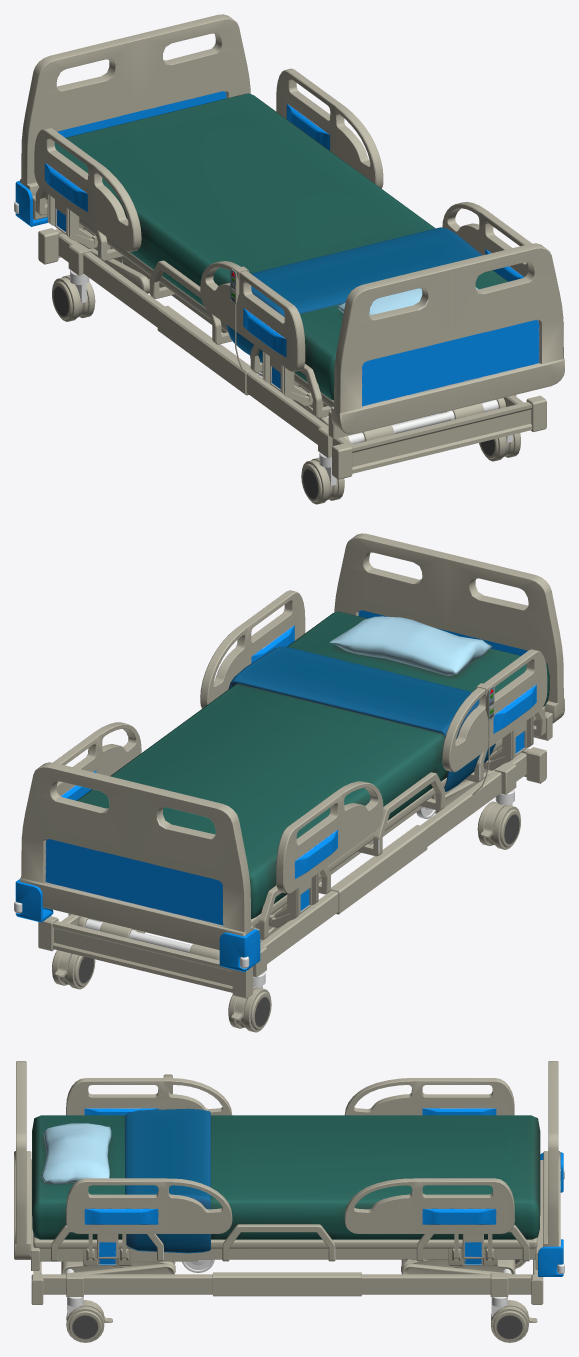
The model's file is Hospital Bed.fbx.
3 renders of one model, top to bottom at view 1: azimuth 30°, elevation 25°; view 2: azimuth 150°, elevation 25°; view 3: azimuth 270°, elevation 25°, orthographic. The views are drawn at different scales.
Visible parts, largest first — view 1: Bed2; view 2: Bed2; view 3: Bed2.
Boxes of the visible parts, <box> form: Bed2: <box>14,14,564,504</box>; Bed2: <box>14,533,564,1032</box>; Bed2: <box>14,1061,564,1342</box>.
Size of the model in its own units: 148 by 131 by 320.
Materials: 1 (1 with a texture image).
